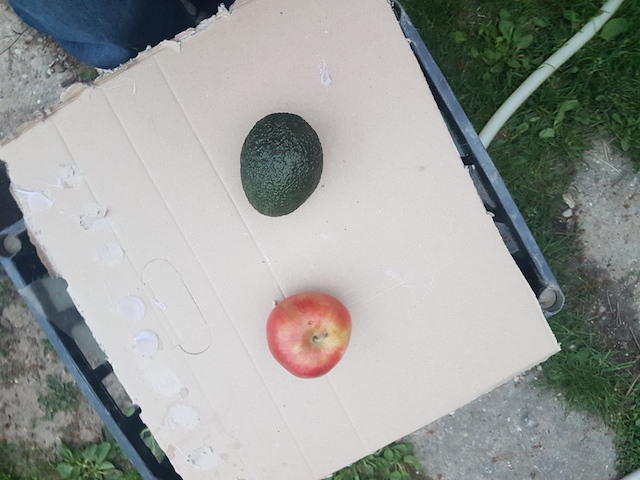apple: (267, 292, 355, 381)
avocado: (239, 113, 325, 218)
